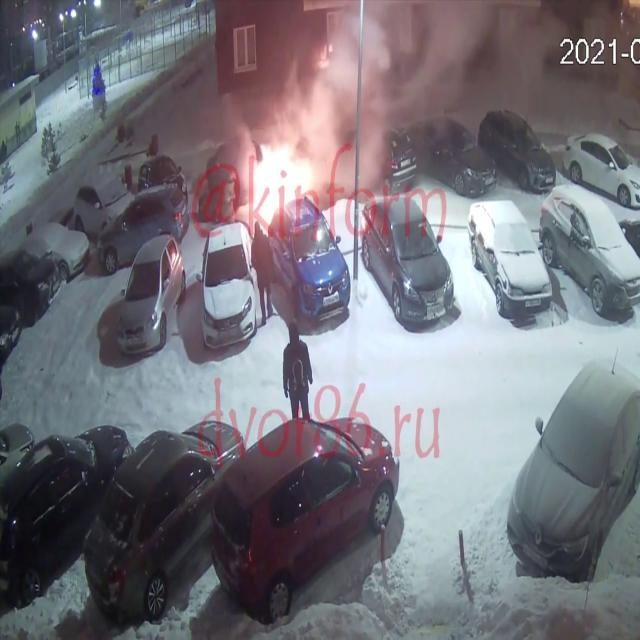Fire: (244, 133, 330, 226)
Smoke: (200, 1, 638, 166)
